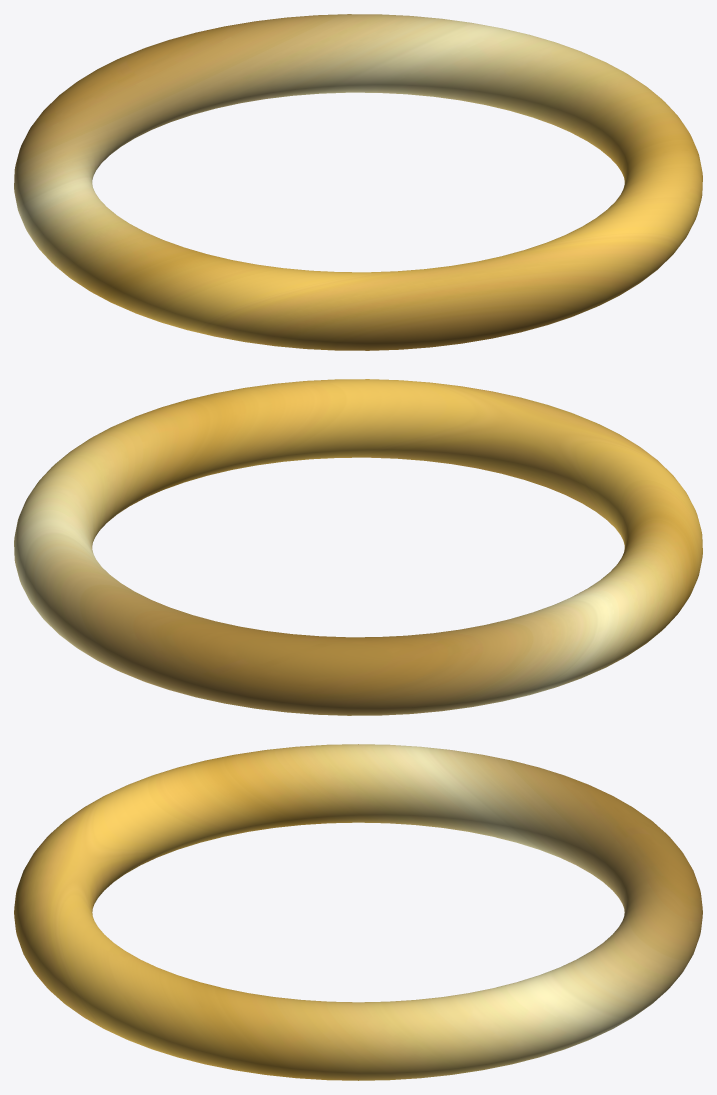
The picture shows the model from 3 angles, top to bottom: view 1: azimuth 30°, elevation 25°; view 2: azimuth 150°, elevation 25°; view 3: azimuth 270°, elevation 25°; orthographic projection.
Visible parts, largest first — view 1: halo; view 2: halo; view 3: halo.
Boxes of the visible parts, x1,y1,x2,y2 form: halo: [14, 14, 702, 350]; halo: [14, 379, 702, 715]; halo: [14, 744, 702, 1080].
Size of the model in its own units: 3.12 by 0.3559 by 3.12.
Materials: 1 (1 with a texture image).
